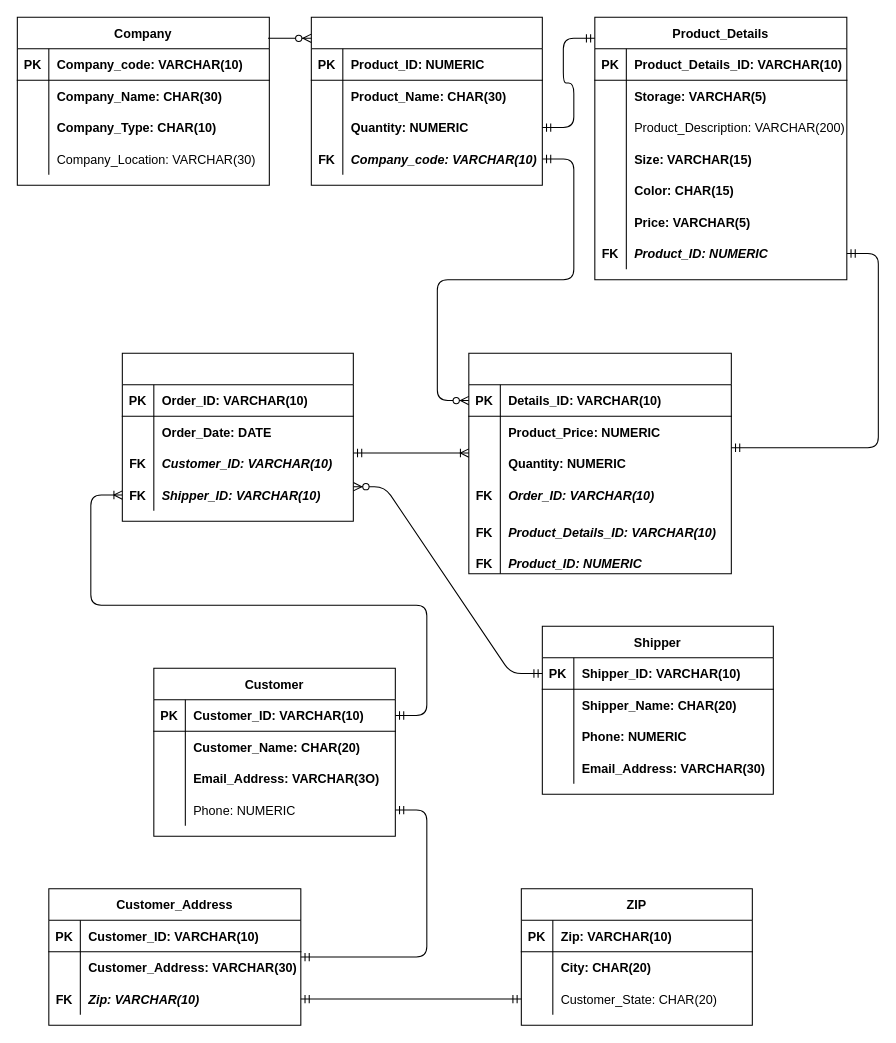
Some shapes in this 896 by 1043 pixel diagram are drawn without their labels. Each missing label, with the box of its shape:
Customer_Order: (121, 352, 353, 521)
Order_Details: (468, 352, 731, 574)
Products: (310, 16, 542, 185)
